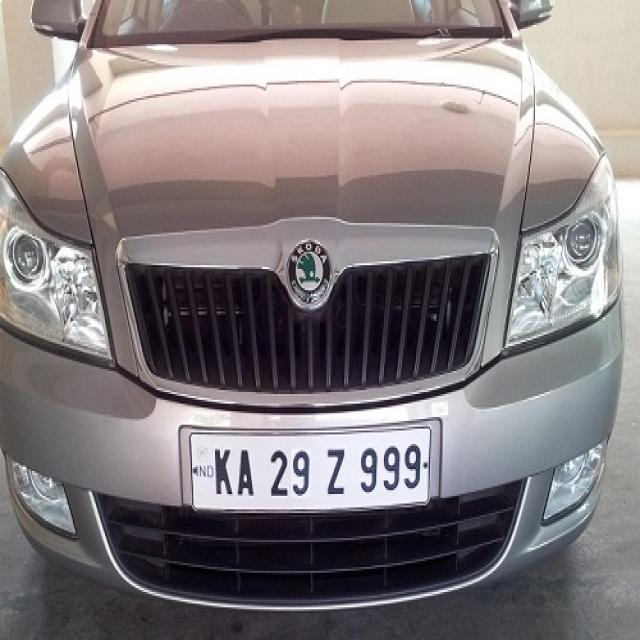license-plate: (188, 423, 429, 509)
